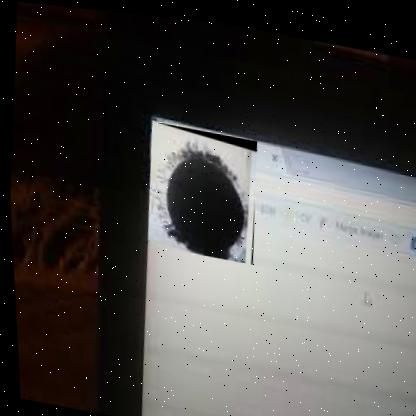crack: (142, 117, 262, 262)
fade: (140, 117, 257, 256)
